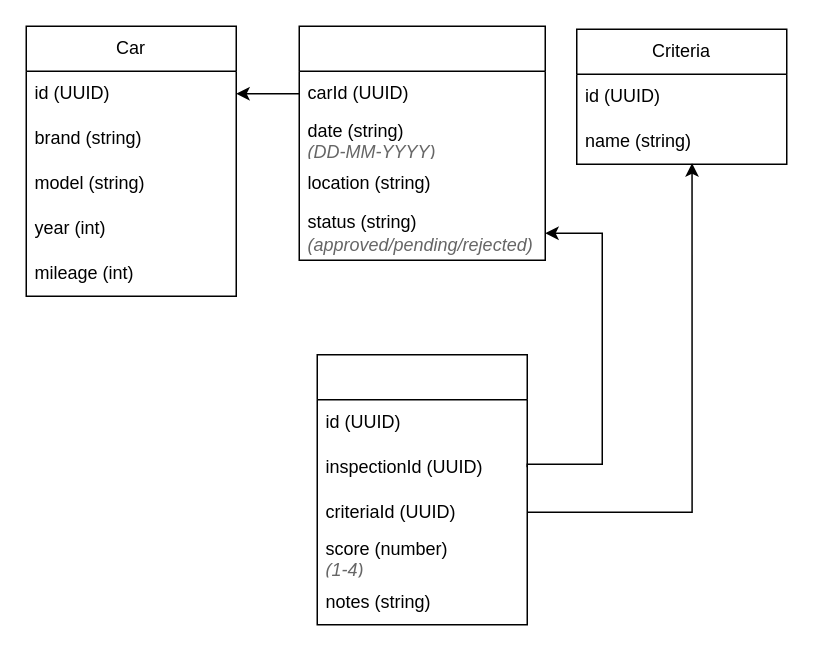
Image size: 813x651. Some labels were removed from this diagram. Each missing label, with the box of its shape:
CriteriaByInspection: (316, 353, 527, 625)
Inspection: (298, 25, 545, 260)
